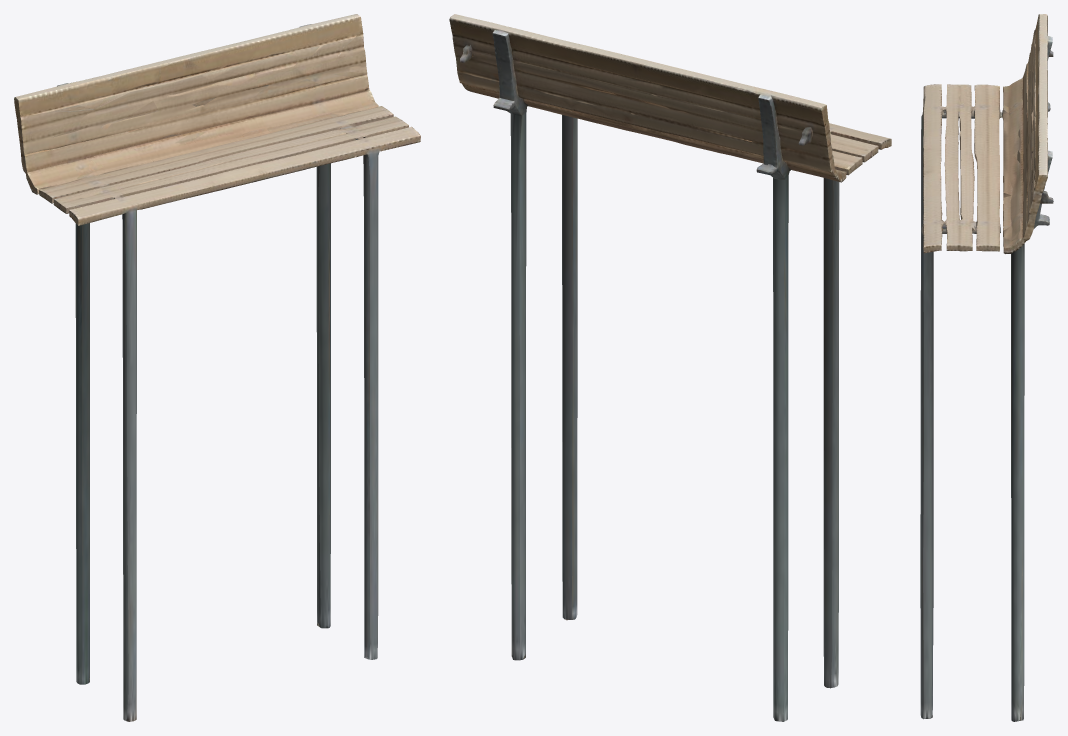
Rendered from fork-bench.glb.
3 renders of one model, left to right at view 1: azimuth 30°, elevation 25°; view 2: azimuth 150°, elevation 25°; view 3: azimuth 270°, elevation 25°, orthographic. The views are drawn at different scales.
Visible parts, largest first — view 1: p1_bench_left; view 2: p1_bench_left; view 3: p1_bench_left.
Boxes of the visible parts, box(x1,y1,x2,y2) form: p1_bench_left: box(14, 14, 420, 721); p1_bench_left: box(449, 14, 891, 721); p1_bench_left: box(920, 14, 1053, 721).
Size of the model in its own units: 2.4 by 3.95 by 0.8379.
Materials: 1 (1 with a texture image).
